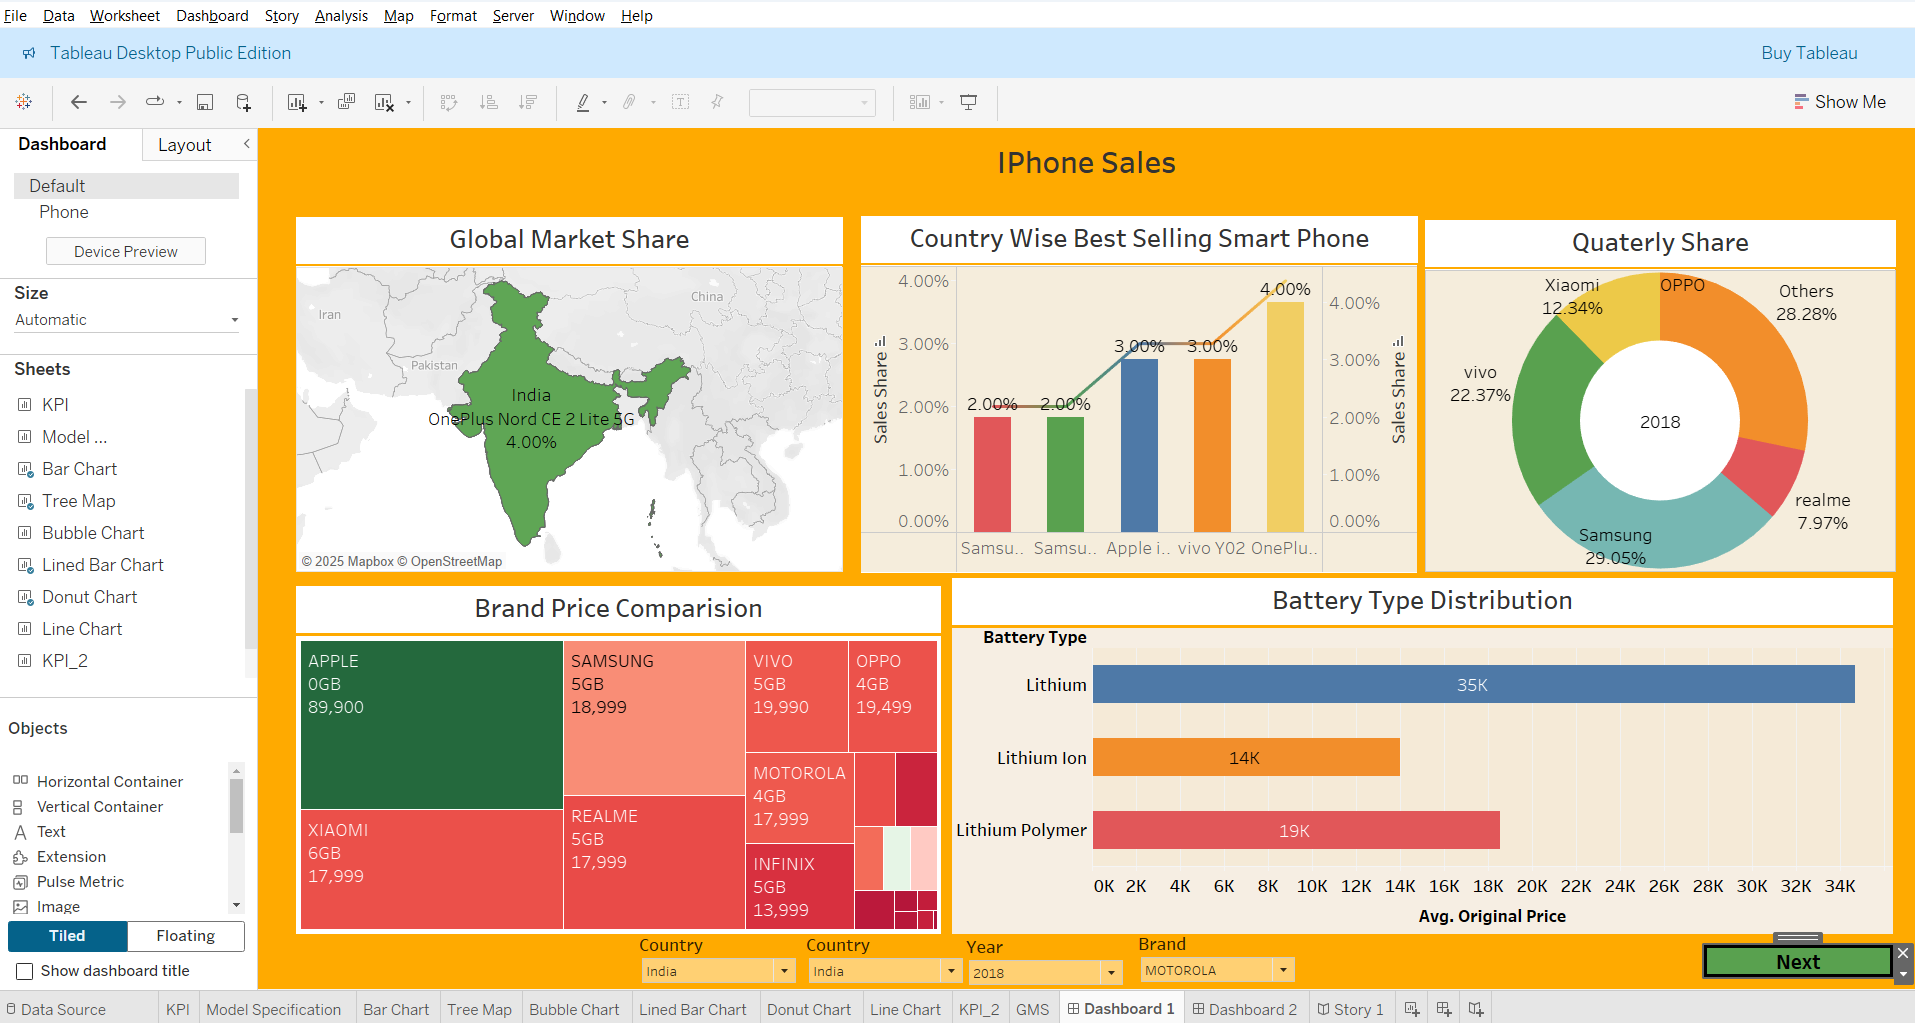

This screenshot's page, from the dashboard's own definition file:
{"tool":"tableau","page":{"name":"Dashboard 1","canvas":[1000,1000],"units":"permille","ordinal":0},"visuals":[{"type":"title","box":[4.8,9.3,990.3,56.9]},{"type":"worksheet","title":"Lined Bar Chart","mark":"Automatic","rows":["Sales Share","Sales Share"],"cols":["Models"],"box":[363.9,102.2,336.2,414.6]},{"type":"worksheet","title":"GMS","mark":"Multipolygon","box":[22.9,103.4,330.1,412.3]},{"type":"worksheet","title":"Donut Chart","mark":"Pie","rows":["Calculation_519884305654874114","Calculation_519884305654874114"],"box":[704.3,106.9,284.2,408.8]},{"type":"worksheet","title":"Bar Chart","mark":"Automatic","rows":["battery_type"],"cols":["original_price"],"box":[418.8,522.6,567.9,413.5]},{"type":"worksheet","title":"Tree Map","mark":"Automatic","box":[22.9,531.9,389.3,404.2]},{"type":"filter","title":"Bar Chart","param":"[federated.094aaop08sx3b114n80pt18ewucl].[none:brand:nk]","box":[531.1,932.6,96.6,61.6]},{"type":"filter","title":"GMS","param":"[federated.00j4bvv10q5ebl12lhm8l1cuapwc].[none:Country:nk]","box":[229.9,933.8,96.6,61.6]},{"type":"filter","title":"Lined Bar Chart","param":"[federated.00j4bvv10q5ebl12lhm8l1cuapwc].[none:Country:nk]","box":[330.7,933.8,96.6,61.6]},{"type":"filter","title":"Donut Chart","param":"[federated.1mas6ya1mhg1s7195iluz1i66xef].[none:Year:ok]","box":[427.3,936.1,96.6,61.6]},{"type":"dashboard-object","box":[872.7,948.9,114.1,37.2]}]}

Visuals, with their boxes on the dashboard's canvas, which has no fixed pixel size, in thousandths of its width and height (x1, y1, x2, y2). These are canvas units, not pixel positions in the 1915x1023 screenshot, which may show the page scaled, cropped or inside an application window:
title: (x1=5, y1=9, x2=995, y2=66)
"Lined Bar Chart" worksheet: (x1=364, y1=102, x2=700, y2=517)
"GMS" worksheet (Multipolygon marks): (x1=23, y1=103, x2=353, y2=516)
"Donut Chart" worksheet (Pie marks): (x1=704, y1=107, x2=988, y2=516)
"Bar Chart" worksheet: (x1=419, y1=523, x2=987, y2=936)
"Tree Map" worksheet: (x1=23, y1=532, x2=412, y2=936)
"Bar Chart" filter: (x1=531, y1=933, x2=628, y2=994)
"GMS" filter: (x1=230, y1=934, x2=326, y2=995)
"Lined Bar Chart" filter: (x1=331, y1=934, x2=427, y2=995)
"Donut Chart" filter: (x1=427, y1=936, x2=524, y2=998)
dashboard-object: (x1=873, y1=949, x2=987, y2=986)
